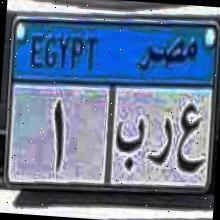1: (48, 98, 70, 173)
ain: (174, 97, 208, 180)
baa: (112, 113, 146, 179)
raa: (144, 111, 178, 172)
